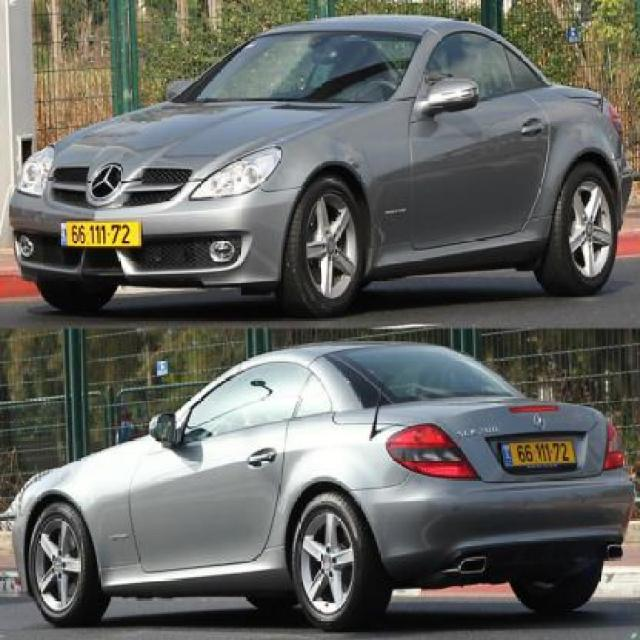License-Plates: (60, 220, 144, 248), (501, 441, 577, 469)
